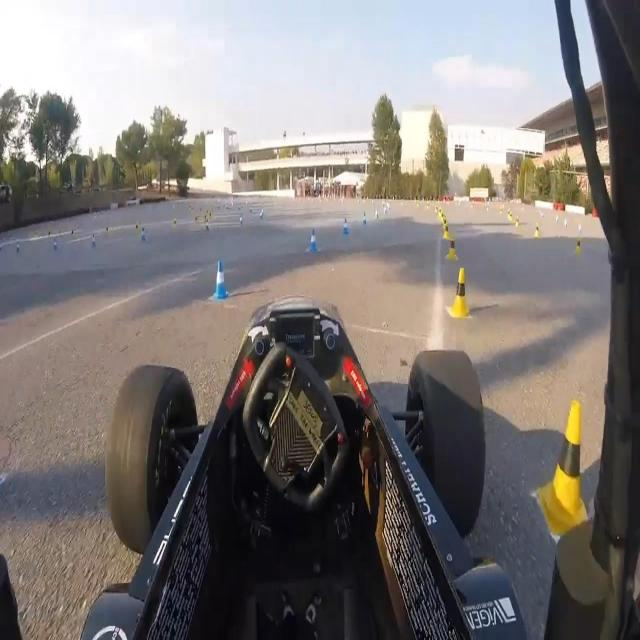blue_cone: (212, 260, 229, 302), (308, 228, 318, 252), (342, 215, 349, 235), (140, 226, 148, 243), (89, 233, 96, 251), (362, 210, 368, 227), (239, 213, 245, 229), (374, 207, 380, 221), (205, 218, 210, 232), (53, 238, 58, 251), (16, 241, 21, 253), (564, 216, 568, 228), (579, 223, 582, 235), (259, 211, 262, 220), (384, 206, 386, 213)
yellow_cone: (532, 389, 588, 534), (448, 263, 468, 320), (448, 234, 458, 260), (442, 225, 450, 240), (534, 222, 540, 236), (575, 239, 581, 253), (516, 216, 521, 227), (174, 218, 178, 230), (136, 223, 139, 236), (443, 218, 447, 225), (510, 211, 512, 221), (508, 208, 510, 217)
